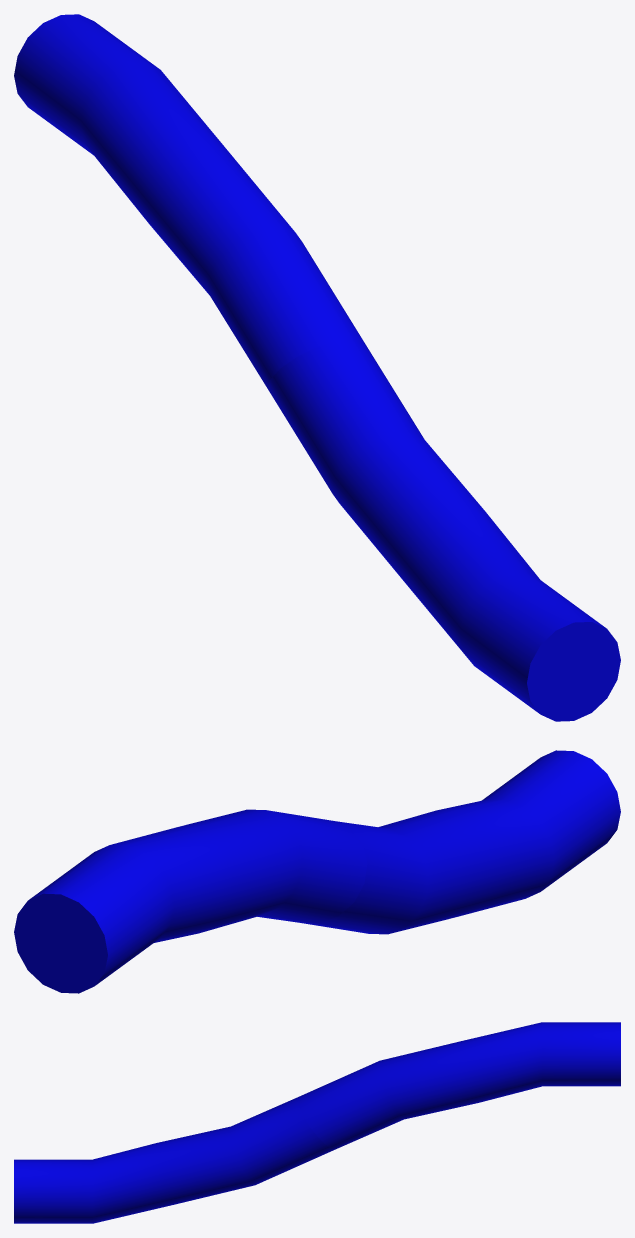
Rendered from G_WireCross.fbx.
3 views of the same model, one above another, from view 1: azimuth 30°, elevation 25°; view 2: azimuth 150°, elevation 25°; view 3: azimuth 270°, elevation 25° (orthographic). The views are drawn at different scales.
Visible parts, largest first — view 1: LeftUpper1, LeftUpper; view 2: LeftUpper, LeftUpper1; view 3: LeftUpper, LeftUpper1.
Part boxes in pixels (x1,y1,x2,y2): LeftUpper1: (267,339,620,721); LeftUpper: (14,14,366,388); LeftUpper: (14,809,367,993); LeftUpper1: (302,750,620,934); LeftUpper: (297,1022,620,1149); LeftUpper1: (14,1097,335,1223).
Size of the model in its own units: 2.55 by 8.55 by 24.03.
